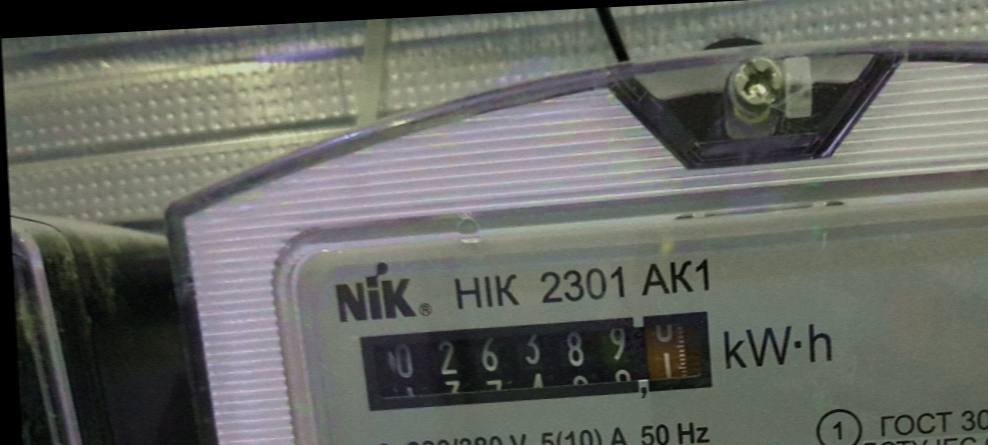0: (391, 339, 416, 380), (654, 321, 673, 343)
1: (660, 348, 674, 380)
2: (435, 336, 460, 376)
3: (522, 331, 541, 366)
6: (479, 333, 499, 373)
8: (564, 328, 587, 367)
9: (607, 325, 627, 360)
screen: (344, 298, 728, 423)
